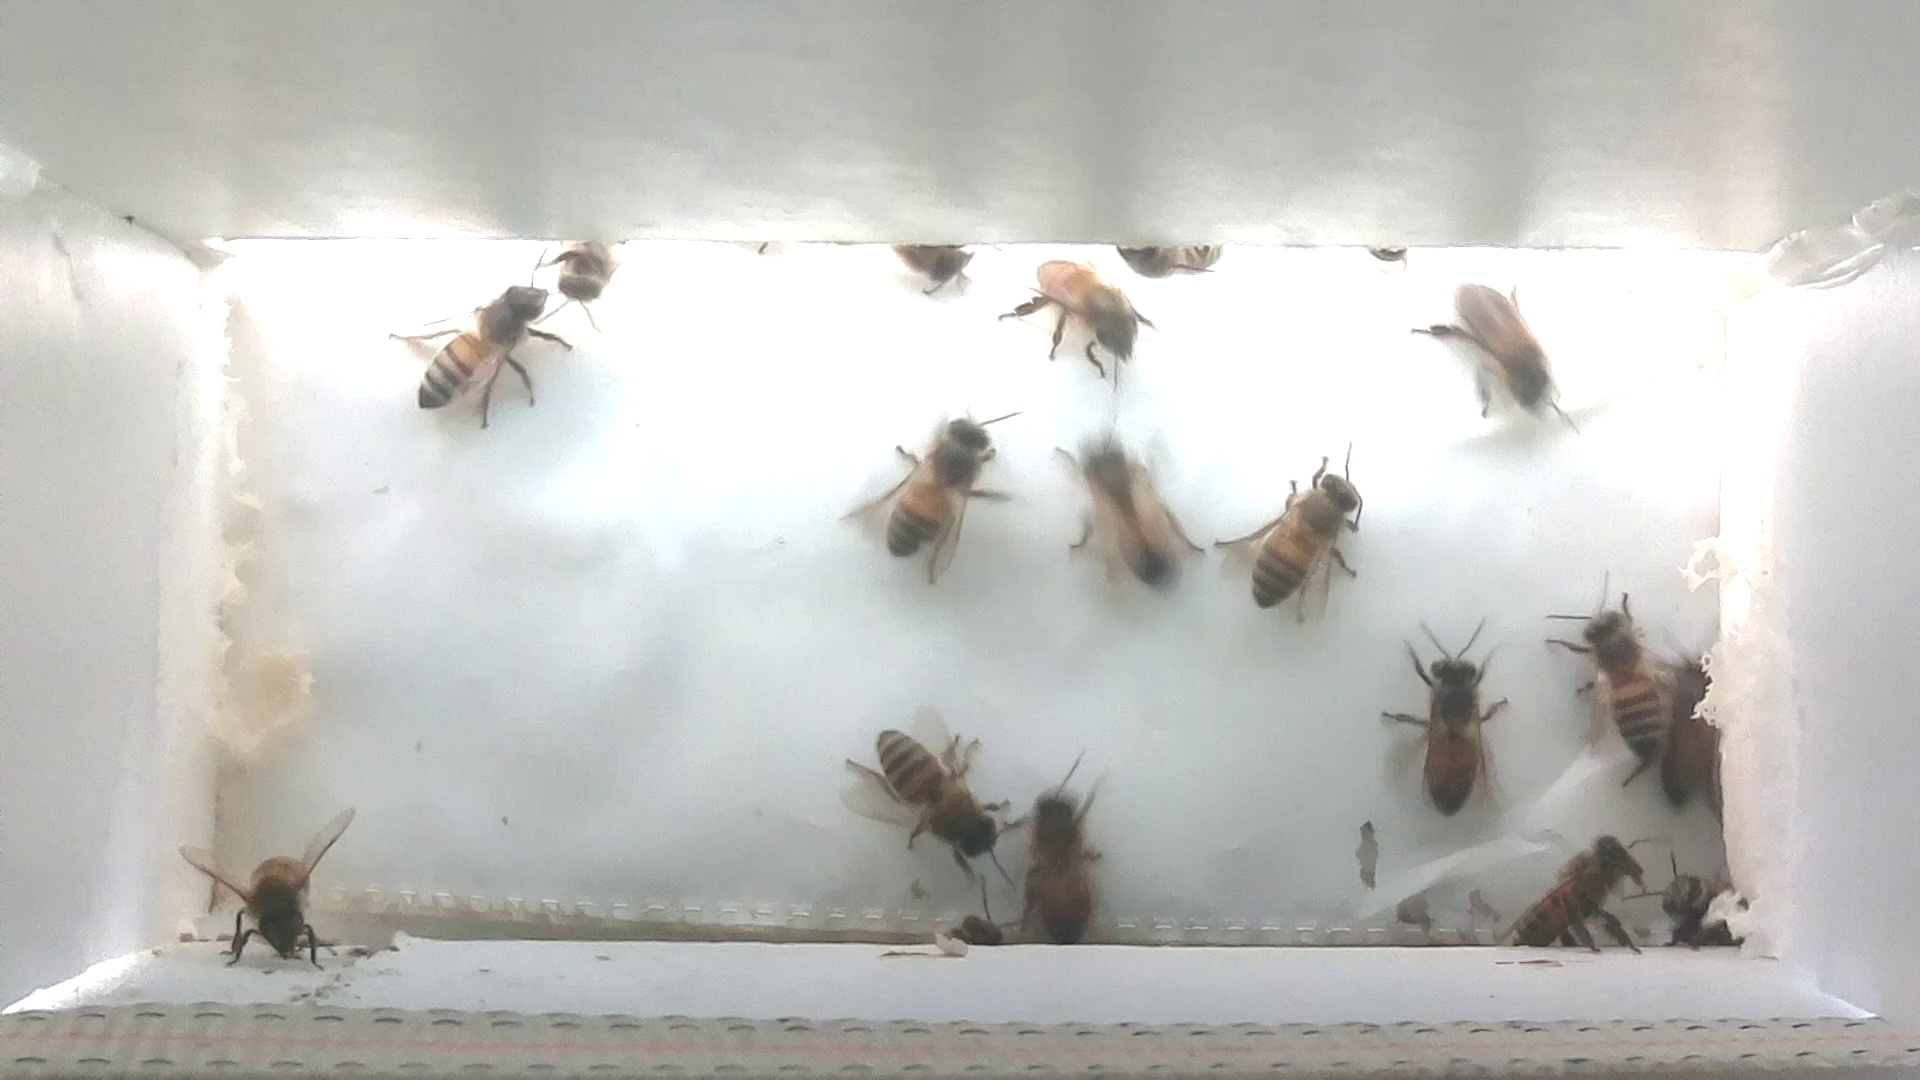bee: (158, 803, 392, 971), (1208, 423, 1385, 638), (836, 390, 1015, 597), (833, 703, 1021, 893), (1040, 404, 1209, 604), (1406, 260, 1589, 440), (1386, 600, 1523, 829), (398, 258, 570, 435), (1485, 816, 1659, 967), (1538, 574, 1669, 769), (1000, 758, 1129, 949), (1000, 244, 1153, 388), (1625, 636, 1735, 823), (1639, 847, 1741, 963), (545, 233, 630, 334), (884, 233, 982, 314), (1112, 231, 1233, 290)
